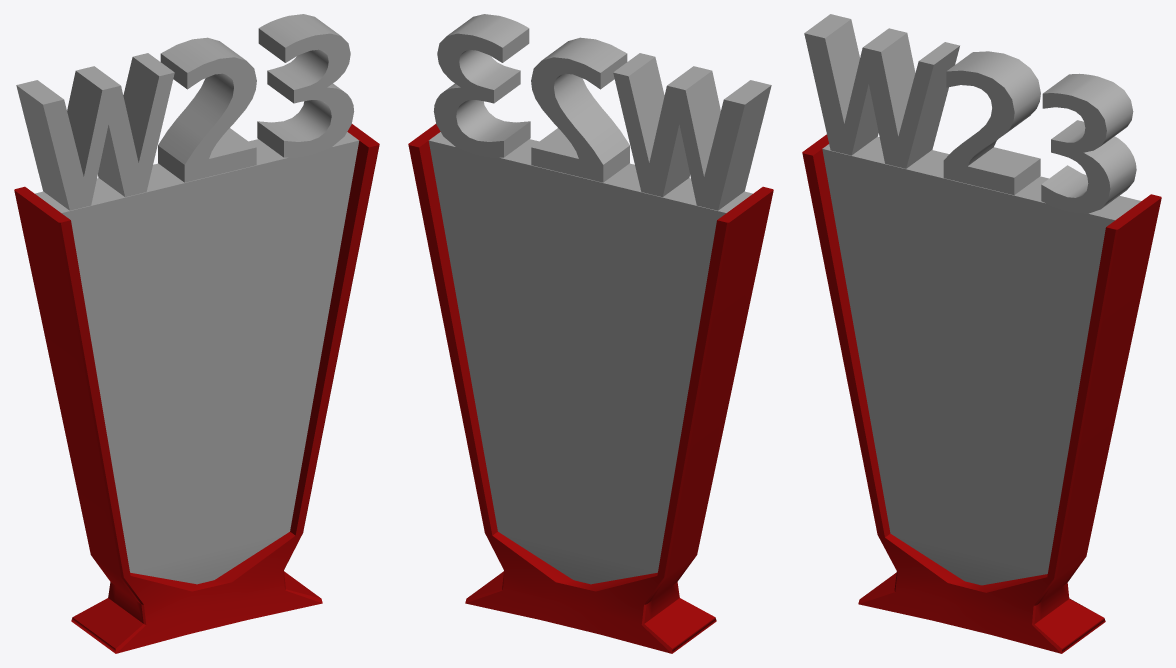
The model's file is credit_w23.fbx.
3 views of the same model, side by side, from view 1: azimuth 30°, elevation 25°; view 2: azimuth 150°, elevation 25°; view 3: azimuth 330°, elevation 25° (orthographic).
Parts seen in each view (by area): view 1: plaque, titleText; view 2: plaque, titleText; view 3: plaque, titleText.
Boxes of the visible parts, x1=… form: plaque: x1=14, y1=124, x2=379, y2=653; titleText: x1=16, y1=14, x2=354, y2=210; plaque: x1=408, y1=124, x2=773, y2=653; titleText: x1=433, y1=14, x2=771, y2=210; plaque: x1=802, y1=134, x2=1161, y2=653; titleText: x1=804, y1=14, x2=1136, y2=213.
Size of the model in its own units: 21.25 by 34.74 by 5.15.
